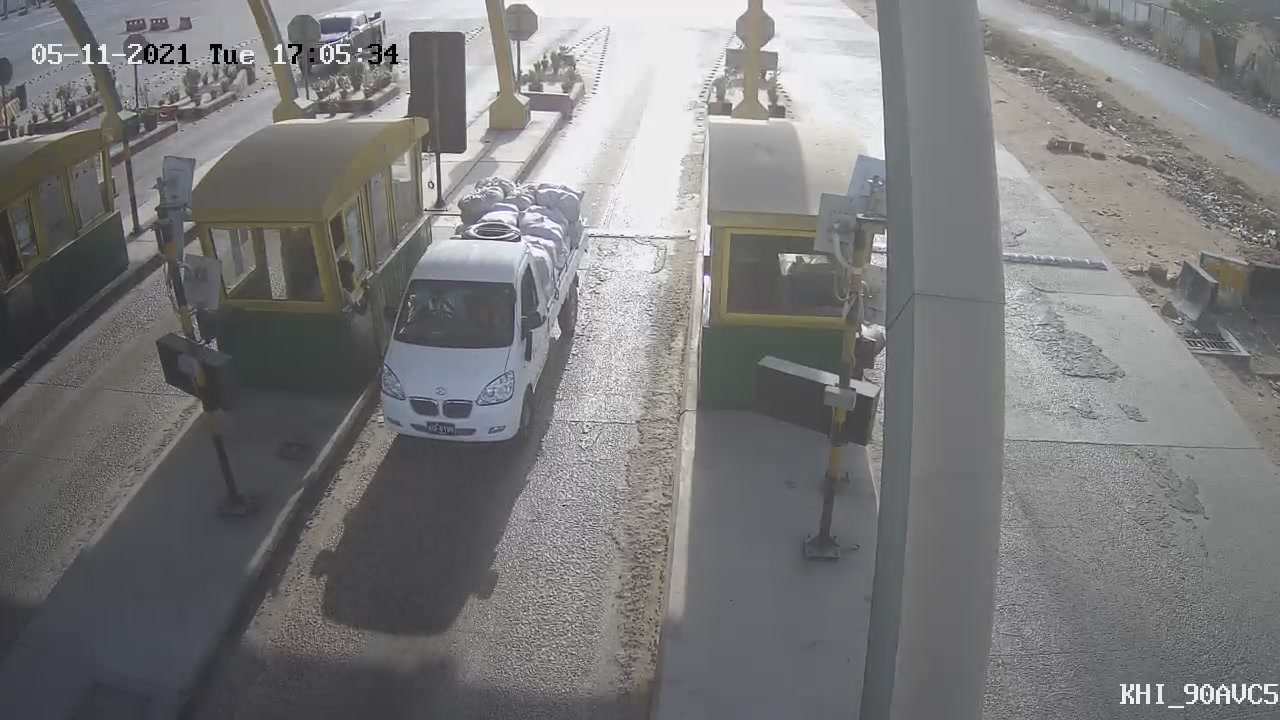F2: (344, 157, 601, 469)
